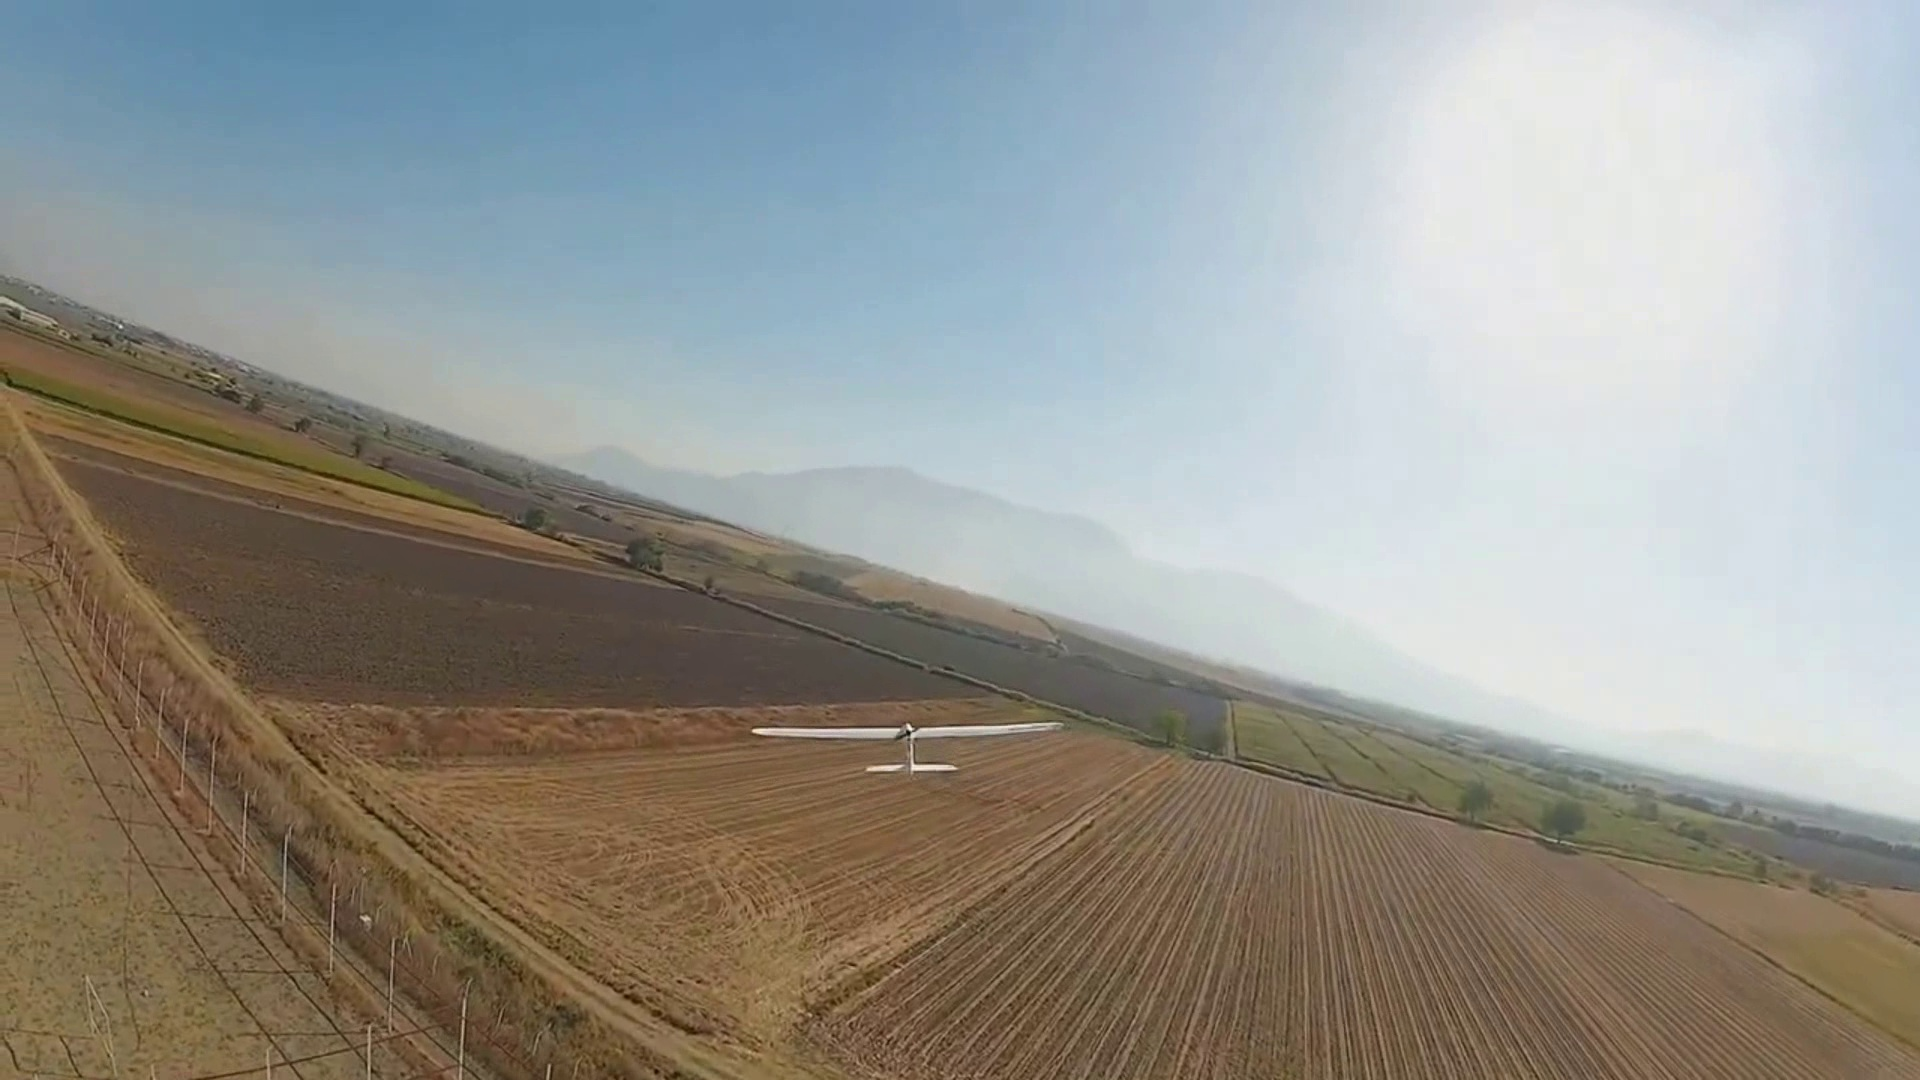airplane: (3, 287, 1916, 882)
